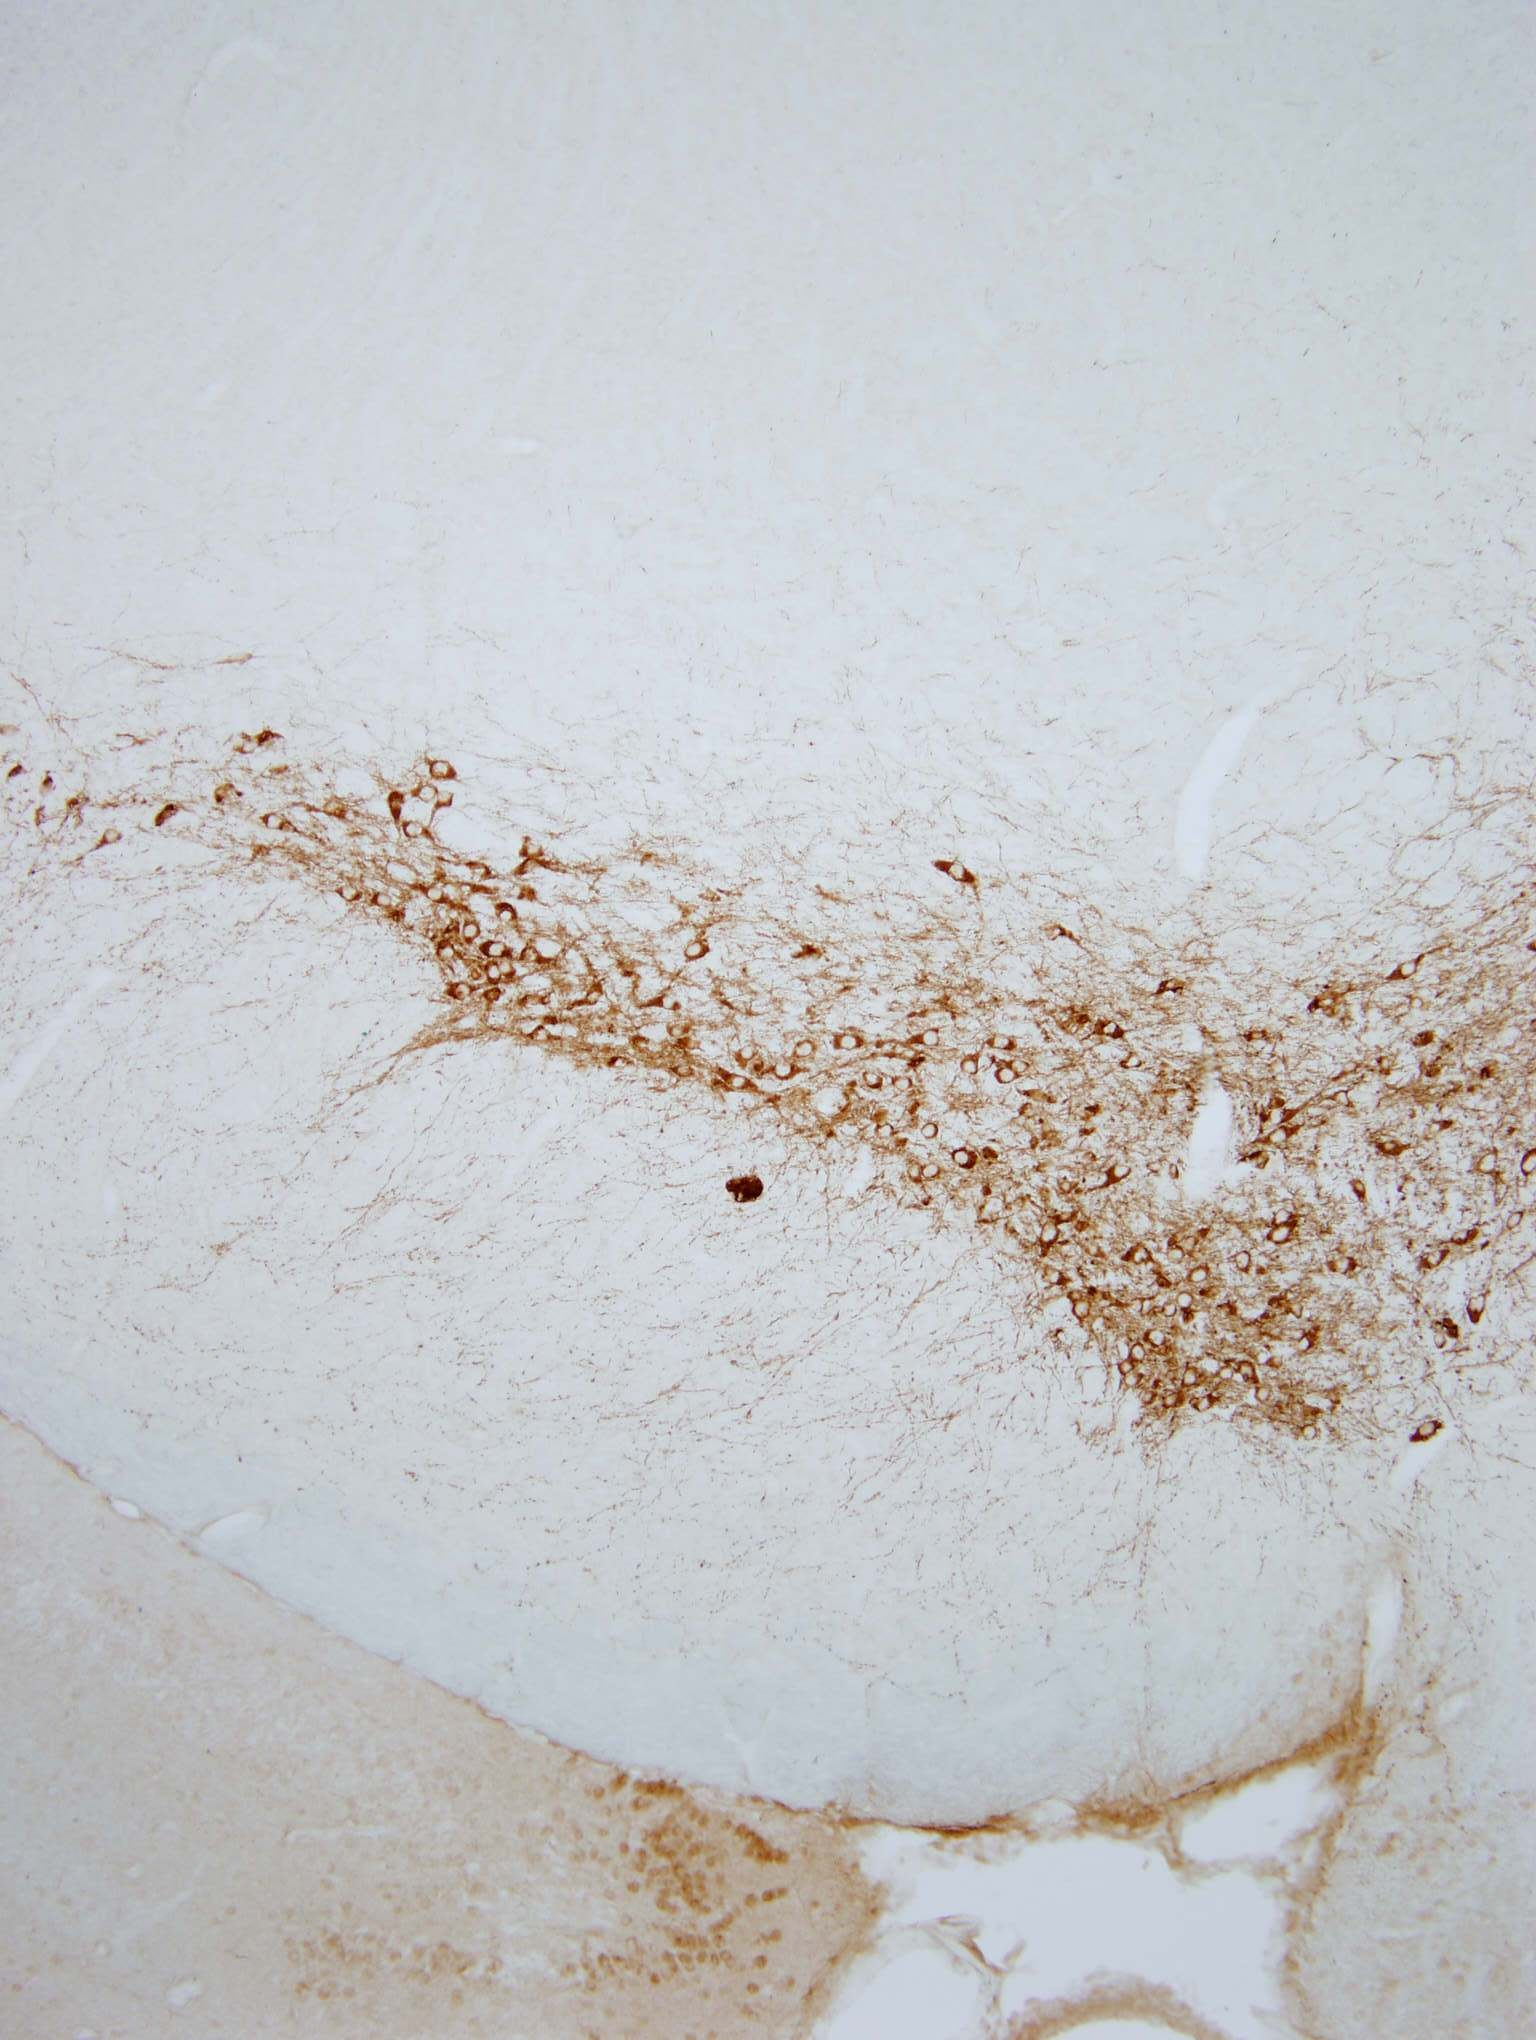neuron: (1497, 1201, 1534, 1239), (257, 805, 294, 842), (1033, 1219, 1070, 1255), (1470, 1147, 1505, 1184), (395, 816, 432, 851), (408, 779, 445, 814), (1263, 1122, 1299, 1158), (332, 876, 368, 911), (423, 753, 458, 789), (679, 935, 715, 971), (941, 855, 976, 890), (1044, 1268, 1068, 1292), (1046, 921, 1070, 945), (1100, 1018, 1125, 1042), (1110, 1159, 1134, 1184), (1113, 1356, 1137, 1380), (1121, 1048, 1146, 1072), (1128, 1340, 1152, 1364), (1129, 1247, 1154, 1271), (1133, 1297, 1157, 1321), (1134, 1385, 1158, 1409), (1146, 1326, 1170, 1350), (1157, 1300, 1181, 1324), (1158, 1388, 1183, 1413), (1158, 972, 1183, 997), (1163, 1158, 1187, 1182), (1165, 1242, 1189, 1266), (1175, 1289, 1199, 1313), (1179, 1364, 1204, 1388), (1186, 1264, 1210, 1289), (1213, 1359, 1238, 1384), (1231, 1250, 1255, 1274), (1238, 1356, 1262, 1380), (1244, 1022, 1268, 1047), (1254, 1384, 1278, 1408), (1263, 1103, 1288, 1127), (1270, 1222, 1294, 1247), (1288, 1301, 1312, 1326), (1292, 1335, 1317, 1359), (1296, 1424, 1320, 1448), (1318, 992, 1342, 1016), (1376, 1139, 1400, 1163), (1397, 956, 1421, 980), (1413, 1419, 1438, 1443), (1421, 1247, 1446, 1271), (1426, 1330, 1450, 1355), (1450, 1224, 1475, 1248), (1468, 1293, 1492, 1318), (237, 739, 261, 763), (279, 779, 303, 803), (371, 889, 395, 913), (424, 882, 449, 906), (432, 939, 457, 963), (460, 921, 484, 945), (482, 985, 507, 1010), (482, 963, 507, 987), (497, 960, 521, 984), (518, 942, 542, 966), (528, 1027, 552, 1051), (582, 987, 607, 1011), (632, 1035, 657, 1060), (658, 993, 682, 1018), (729, 1071, 753, 1095), (774, 1060, 799, 1084), (794, 1037, 818, 1061), (837, 1030, 862, 1055), (862, 1069, 886, 1093), (891, 1072, 915, 1097), (900, 1159, 925, 1184), (921, 1027, 945, 1051), (921, 1159, 945, 1184), (949, 1147, 973, 1171), (960, 1056, 984, 1080), (994, 1064, 1018, 1089), (1012, 1055, 1034, 1079), (1071, 1300, 1096, 1322), (1117, 1371, 1141, 1393), (1191, 1393, 1213, 1418), (1271, 1205, 1296, 1227), (1333, 1256, 1355, 1280), (1347, 1176, 1371, 1198), (323, 793, 345, 818), (452, 979, 474, 1003), (486, 939, 508, 963), (607, 1048, 629, 1072), (671, 1063, 695, 1085), (736, 1043, 758, 1068), (874, 1121, 899, 1143), (920, 1119, 942, 1143), (991, 1034, 1015, 1056), (102, 826, 124, 848), (494, 905, 516, 927)
